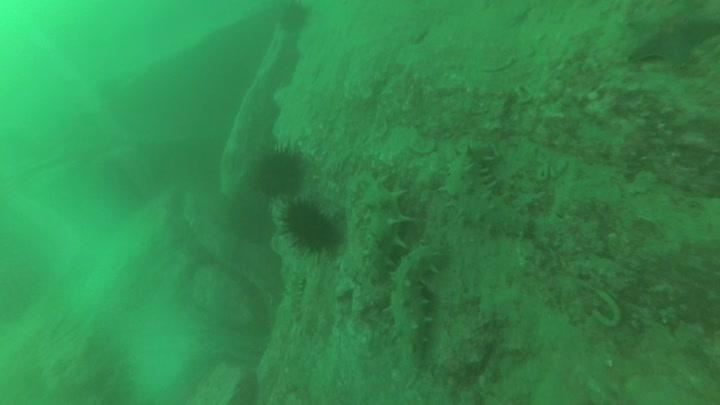echinus: (280, 196, 345, 257), (248, 142, 310, 200), (224, 187, 276, 245), (275, 1, 314, 37)
holothurian: (438, 140, 534, 239), (384, 242, 449, 363), (353, 172, 413, 285), (281, 268, 310, 331)
starfish: (621, 3, 719, 69)
